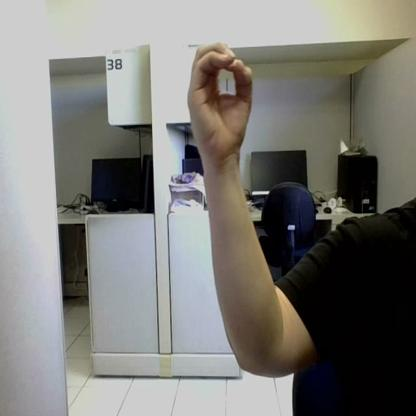O: (188, 43, 252, 155)
